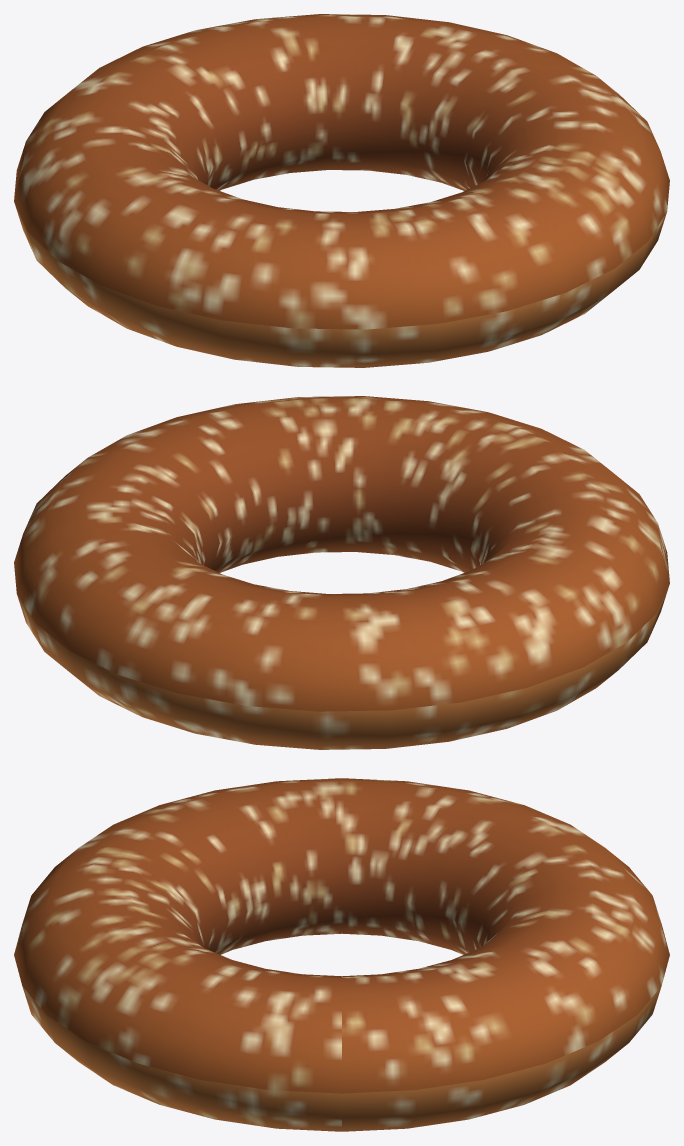
Rendered from simit.glb.
3 views of the same model, one above another, from view 1: azimuth 30°, elevation 25°; view 2: azimuth 150°, elevation 25°; view 3: azimuth 270°, elevation 25° (orthographic).
Visible parts, largest first — view 1: simit; view 2: simit; view 3: simit.
Boxes of the visible parts, x1,y1,x2,y2 form: simit: (14,14,669,367); simit: (14,396,669,749); simit: (14,778,669,1131).
Size of the model in its own units: 0.154 by 0.0343 by 0.154.
Materials: 1 (1 with a texture image).
